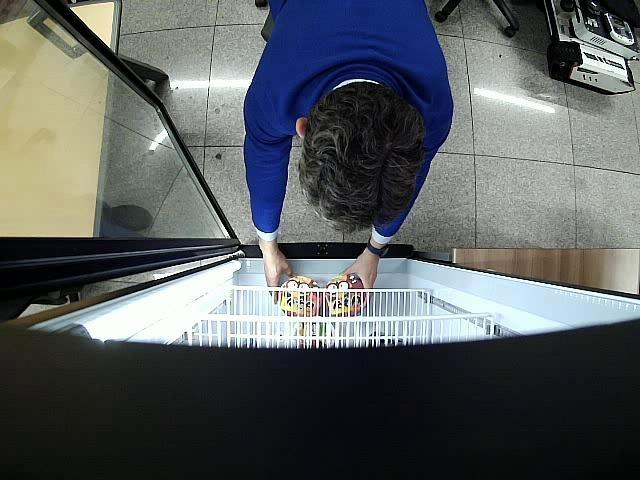05_nuguri_L: (278, 276, 322, 316), (326, 274, 366, 316)
